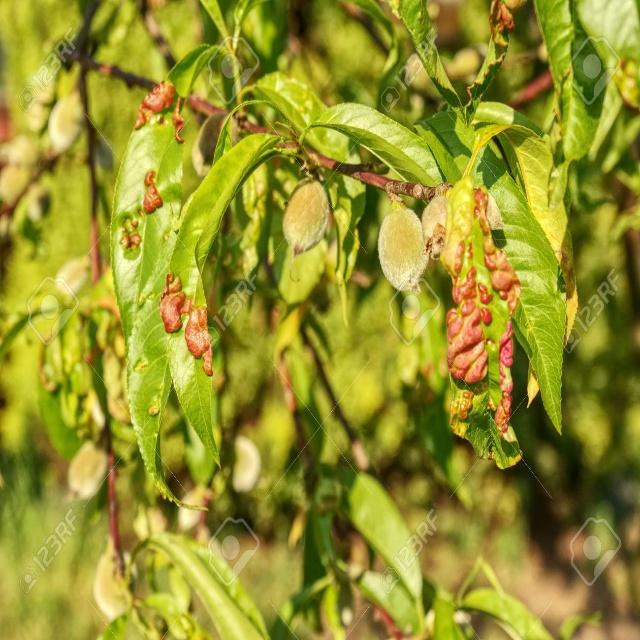leaf_curl: (124, 70, 243, 512), (430, 179, 531, 526)
